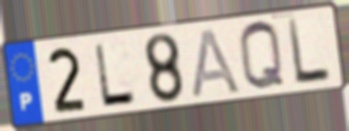2: (47, 46, 88, 115)
8: (143, 31, 186, 105)
A: (190, 26, 244, 100)
L: (285, 16, 334, 88), (91, 41, 139, 109)
Q: (236, 19, 288, 95)
